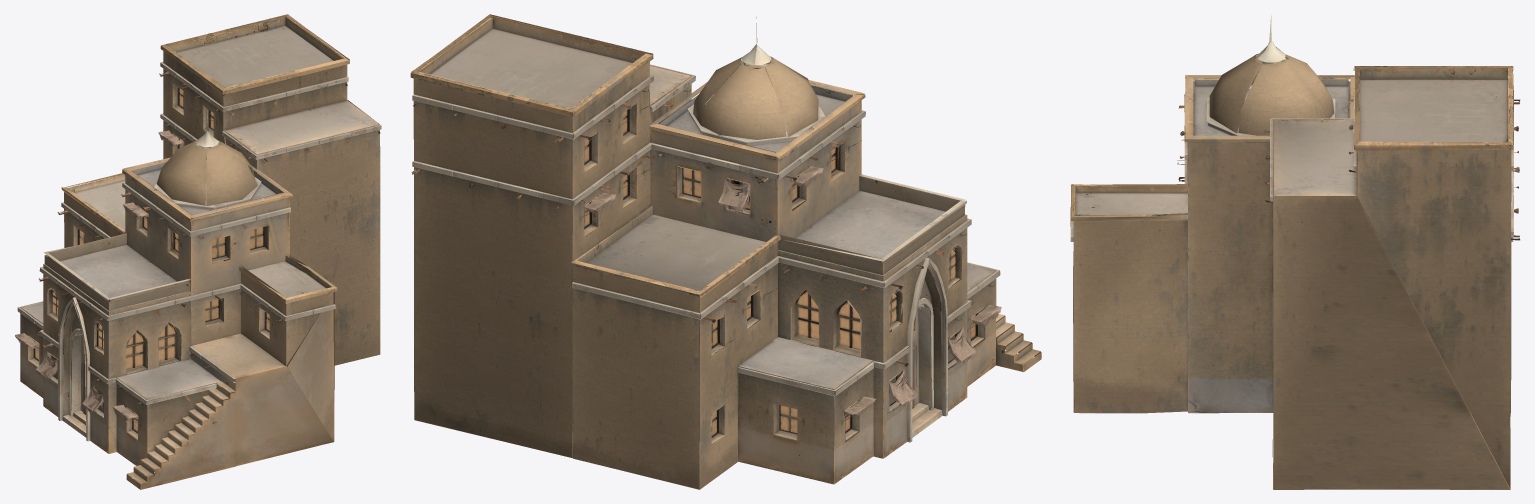
File: xi_dep_trade_building_low.gltf
3 views of the same model, side by side, from view 1: azimuth 30°, elevation 25°; view 2: azimuth 150°, elevation 25°; view 3: azimuth 270°, elevation 25° (orthographic). The views are drawn at different scales.
Parts seen in each view (by area): view 1: xi_dep_trade_building; view 2: xi_dep_trade_building; view 3: xi_dep_trade_building.
Part boxes in pixels (x1=…): xi_dep_trade_building: x1=15, y1=14, x2=381, y2=489; xi_dep_trade_building: x1=410, y1=14, x2=1041, y2=489; xi_dep_trade_building: x1=1070, y1=15, x2=1520, y2=489.
Size of the model in its own units: 13.66 by 11.79 by 13.05.
3 materials, 3 textured.
